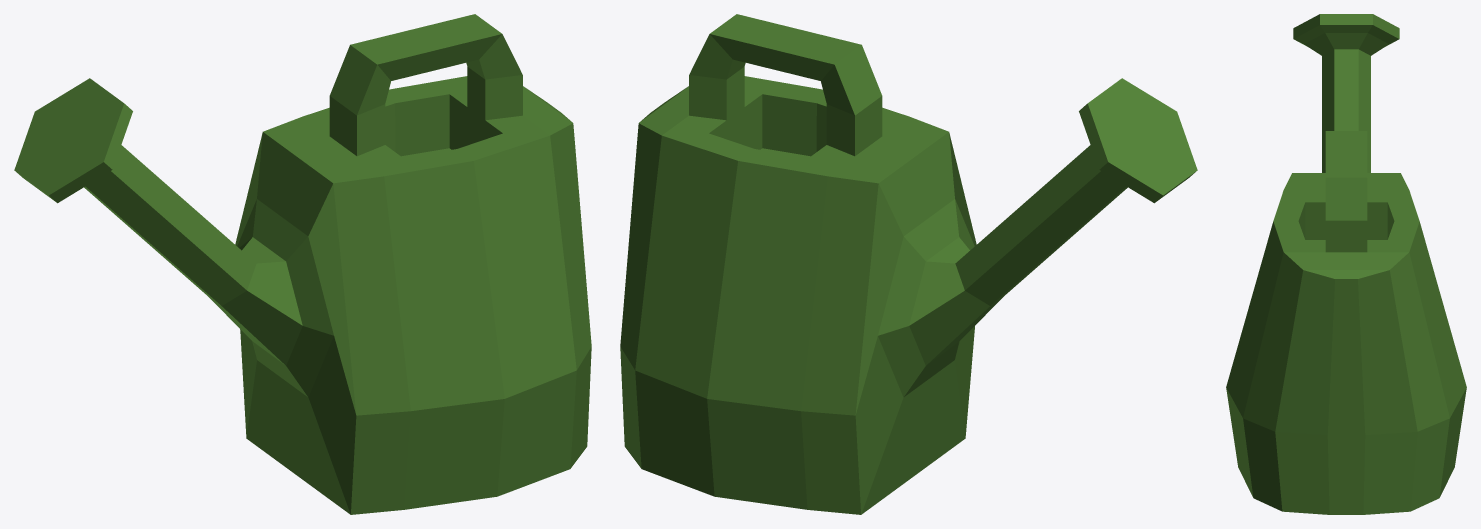
Rendered from WaterCan.fbx.
3 renders of one model, left to right at view 1: azimuth 30°, elevation 25°; view 2: azimuth 150°, elevation 25°; view 3: azimuth 270°, elevation 25°, orthographic. The views are drawn at different scales.
Parts seen in each view (by area): view 1: WaterCan; view 2: WaterCan; view 3: WaterCan.
Part boxes in pixels (x1,y1,x2,y2): WaterCan: (14,14,591,514); WaterCan: (620,14,1197,514); WaterCan: (1226,14,1466,514).
Bounding box in the file's own units: 119 × 94.44 × 61.86.
